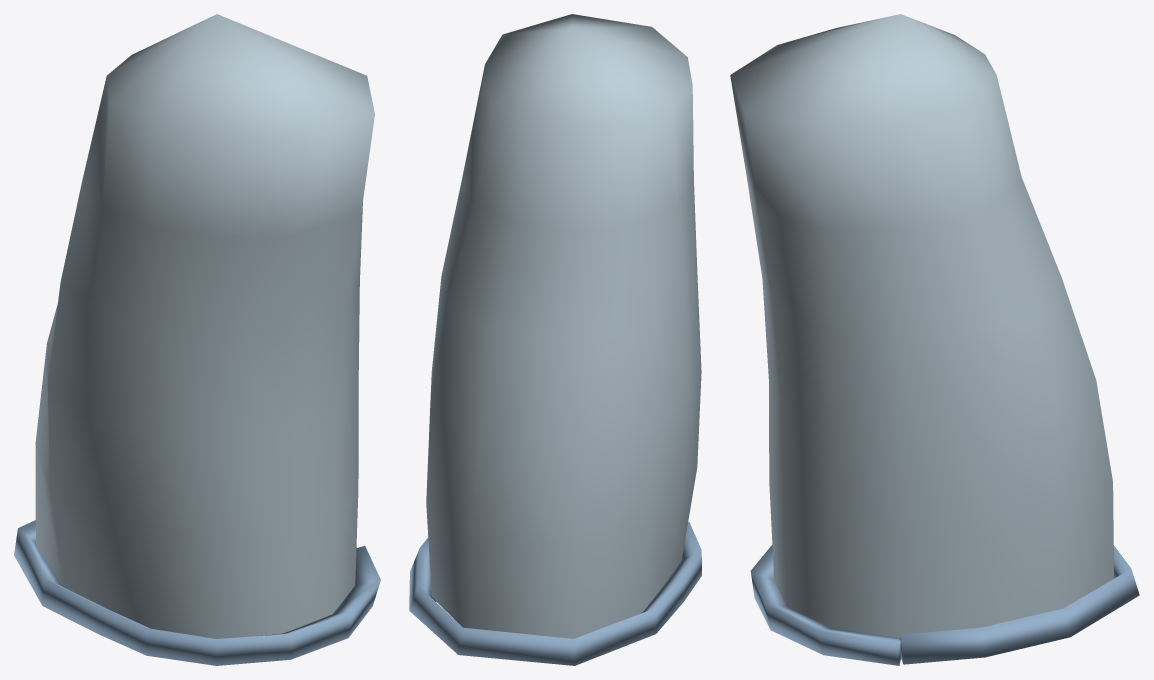
The model's file is platinum_armor_boot.L.glb.
3 views of the same model, side by side, from view 1: azimuth 30°, elevation 25°; view 2: azimuth 150°, elevation 25°; view 3: azimuth 270°, elevation 25° (orthographic). The views are drawn at different scales.
Visible parts, largest first — view 1: platinum_armor_boot.L; view 2: platinum_armor_boot.L; view 3: platinum_armor_boot.L.
Boxes of the visible parts, x1=… form: platinum_armor_boot.L: x1=14, y1=14, x2=380, y2=665; platinum_armor_boot.L: x1=409, y1=14, x2=701, y2=665; platinum_armor_boot.L: x1=730, y1=14, x2=1139, y2=665.
Size of the model in its own units: 0.1461 by 0.2958 by 0.1877.
